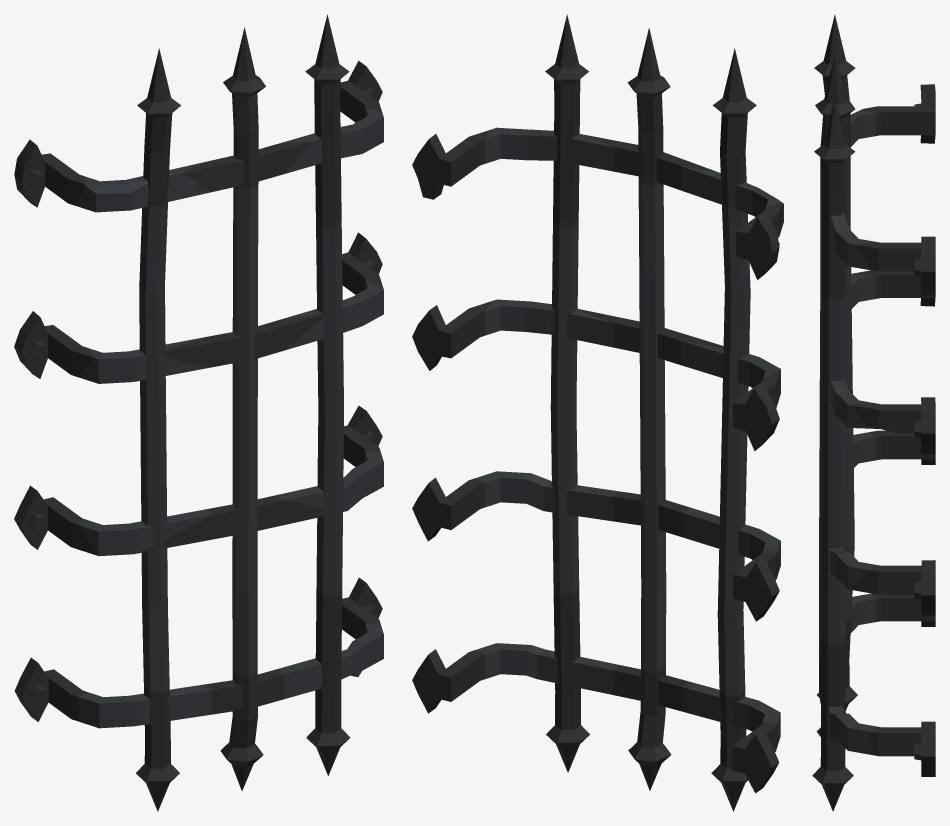
File: SM_Bld_Wall_Window_Bars_01.fbx
3 views of the same model, side by side, from view 1: azimuth 30°, elevation 25°; view 2: azimuth 150°, elevation 25°; view 3: azimuth 270°, elevation 25° (orthographic). The views are drawn at different scales.
Parts seen in each view (by area): view 1: SM_Bld_Wall_Window_Bars_01; view 2: SM_Bld_Wall_Window_Bars_01; view 3: SM_Bld_Wall_Window_Bars_01.
Boxes of the visible parts, left/top/right/bottom form: SM_Bld_Wall_Window_Bars_01: left=14, top=14, right=383, bottom=811; SM_Bld_Wall_Window_Bars_01: left=412, top=14, right=783, bottom=811; SM_Bld_Wall_Window_Bars_01: left=812, top=14, right=935, bottom=811.
Size of the model in its own units: 117 by 239 by 37.11.
